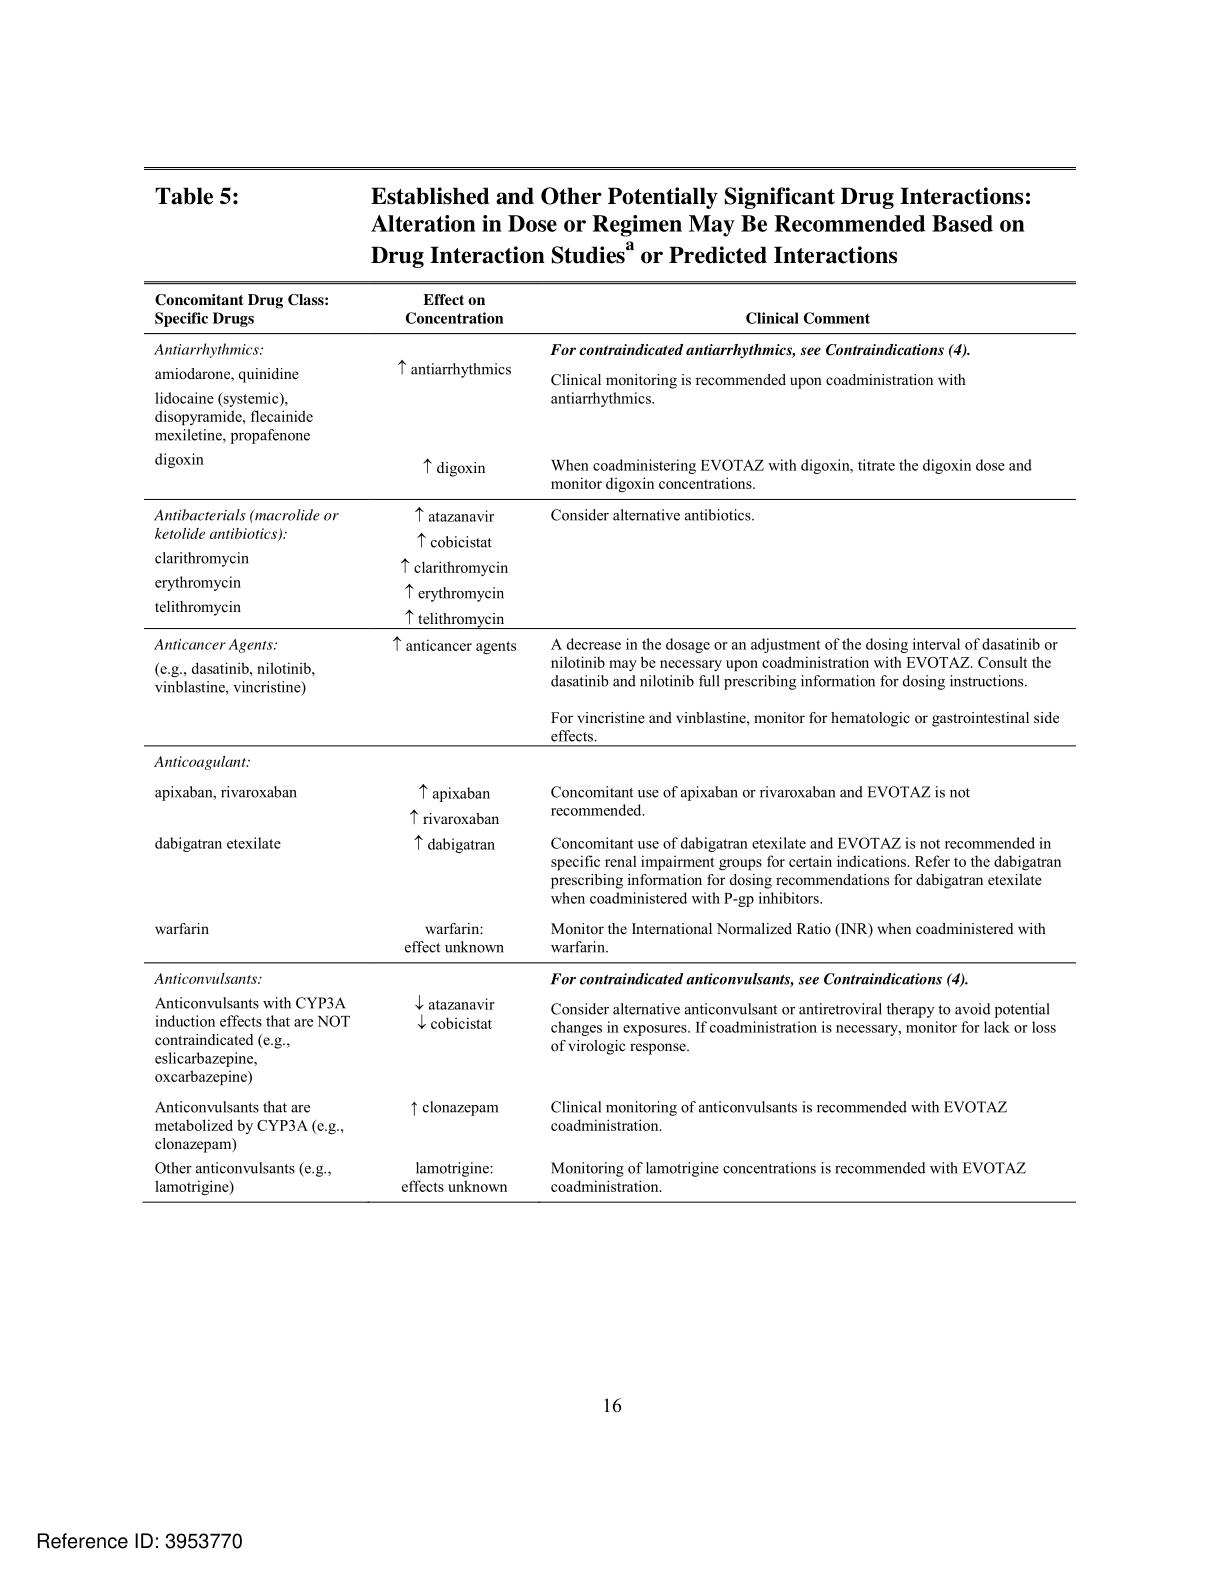partial_lined: (143, 278, 1081, 1203)
